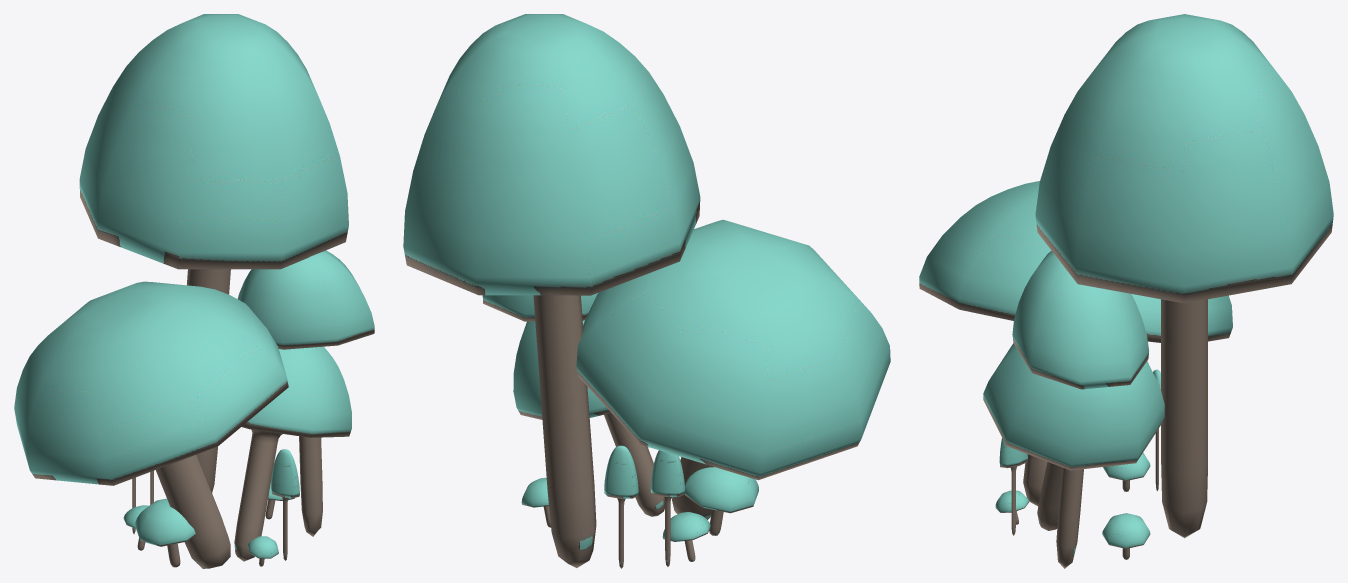
File: BlueMushroomCluster.fbx
3 views of the same model, side by side, from view 1: azimuth 30°, elevation 25°; view 2: azimuth 150°, elevation 25°; view 3: azimuth 270°, elevation 25° (orthographic). The views are drawn at different scales.
Visible parts, largest first — view 1: MushroomCluster.001; view 2: MushroomCluster.001; view 3: MushroomCluster.001.
Part boxes in pixels (x1,y1,x2,y2): MushroomCluster.001: (14, 14, 374, 568); MushroomCluster.001: (403, 14, 890, 568); MushroomCluster.001: (919, 14, 1333, 568).
Bounding box in the file's own units: 219 × 290 × 207.
